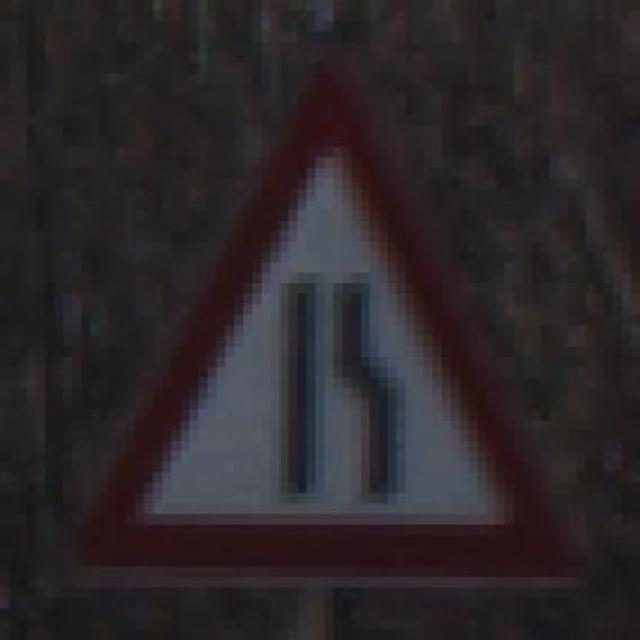-Road narrows on right: (50, 61, 592, 585)
